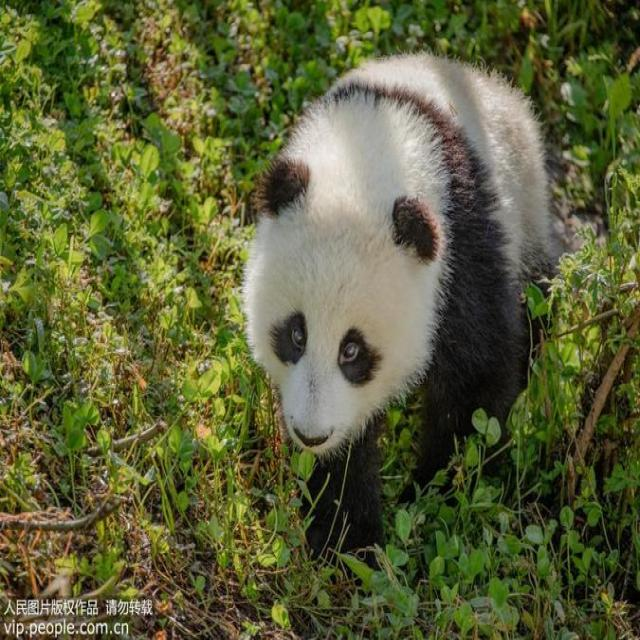panda: (221, 22, 569, 542)
